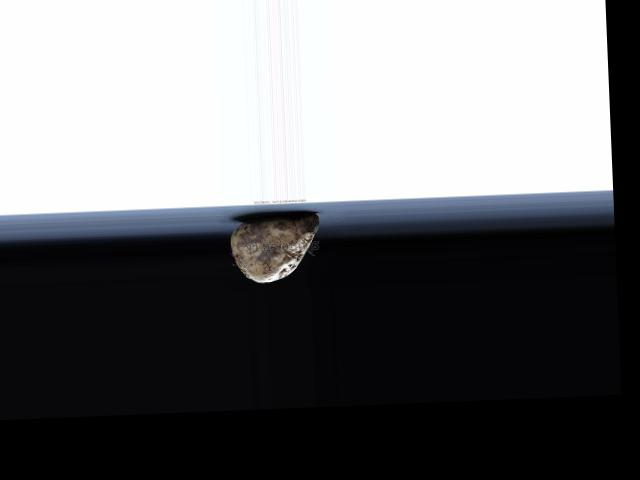beet: (228, 213, 319, 283)
